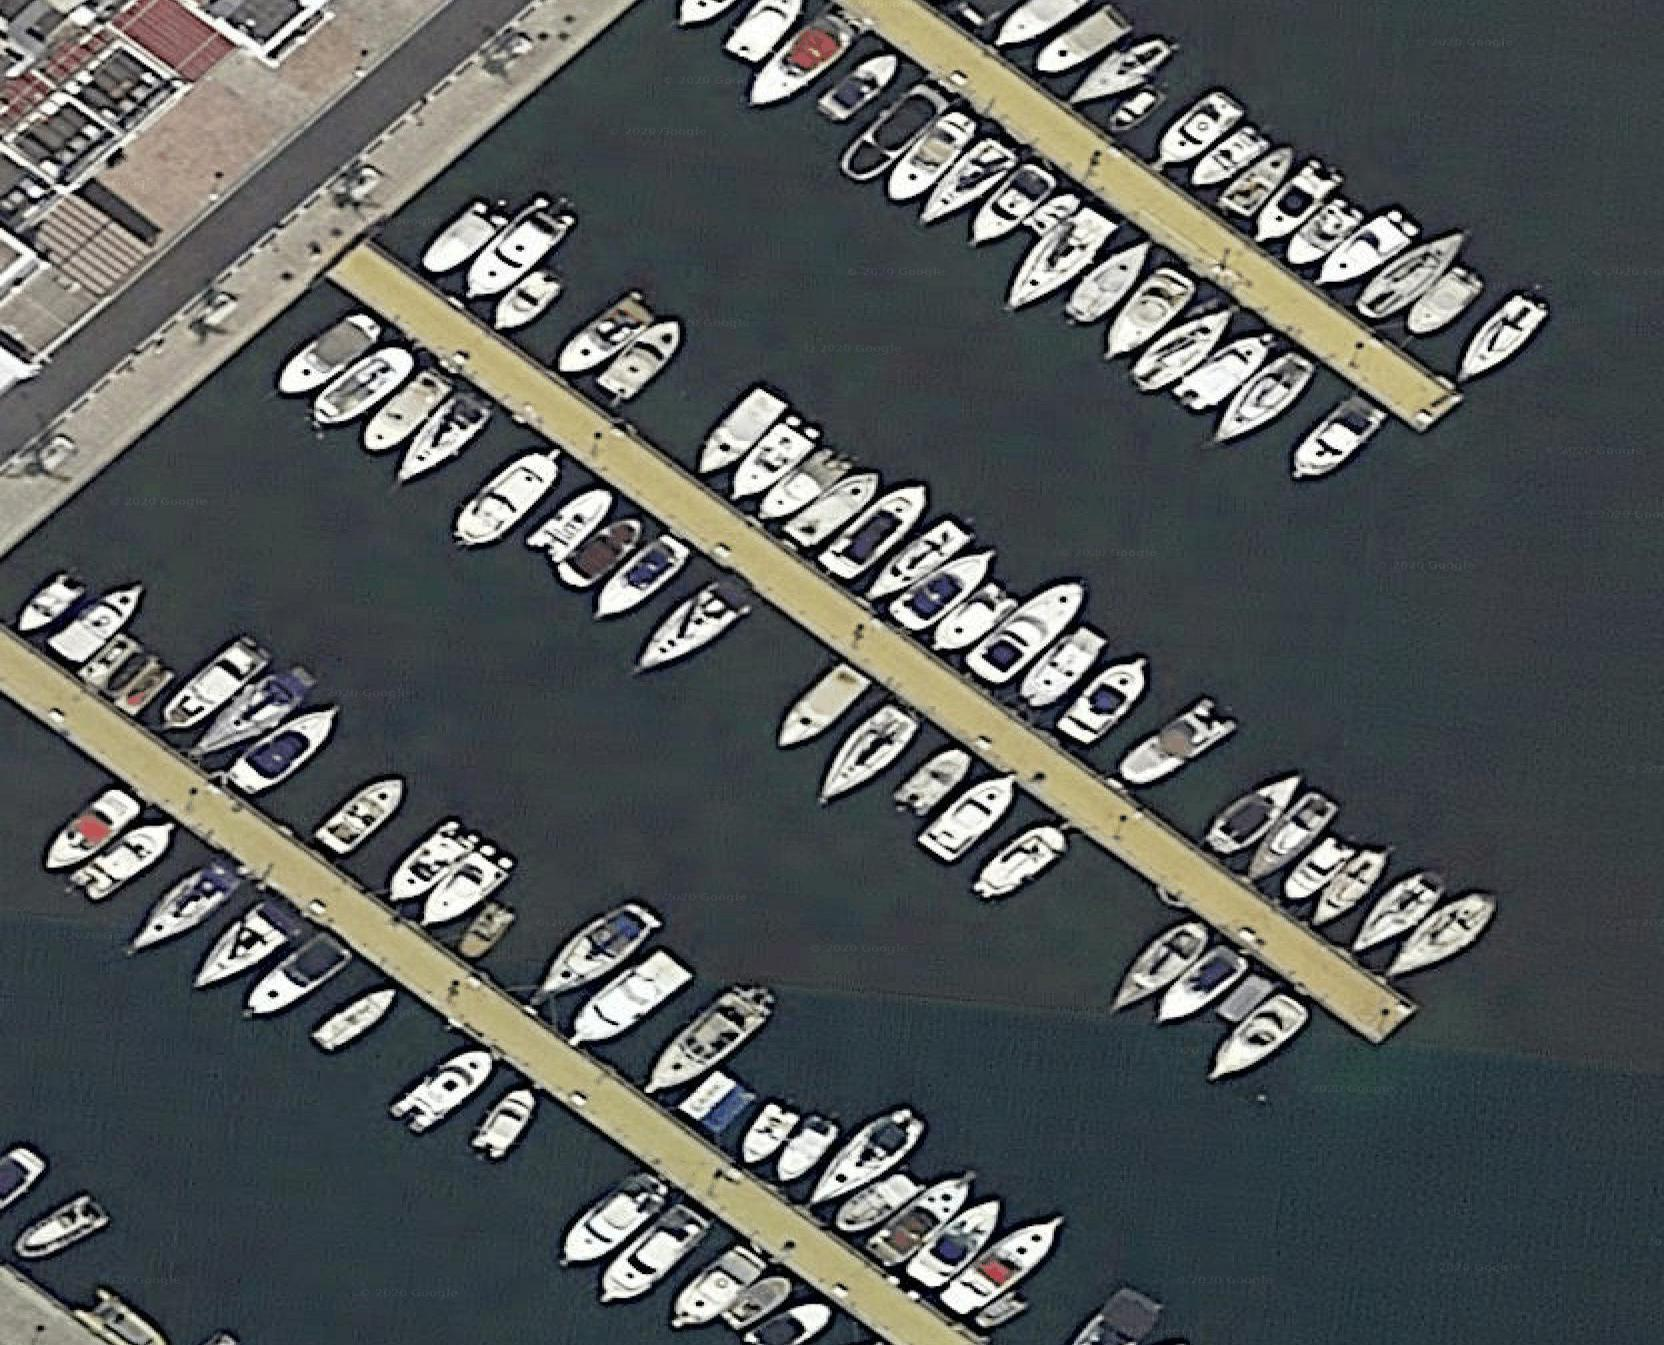harbor: (303, 231, 1436, 1049), (10, 563, 999, 1345), (551, 1, 1664, 423)
ship: (938, 1201, 1077, 1330), (525, 891, 665, 1018), (631, 983, 774, 1106), (558, 946, 697, 1062), (968, 565, 1093, 694), (804, 1108, 929, 1232), (621, 574, 753, 690), (117, 851, 248, 968), (997, 198, 1119, 320), (1200, 346, 1332, 458), (809, 693, 927, 817), (547, 1165, 669, 1280), (444, 441, 565, 556), (454, 196, 575, 310), (1379, 885, 1510, 990), (1346, 222, 1471, 332), (1104, 694, 1235, 799), (1200, 985, 1321, 1098), (738, 12, 861, 122), (587, 1198, 704, 1313), (818, 473, 936, 587), (222, 699, 342, 808), (911, 128, 1027, 236), (298, 336, 423, 436), (189, 660, 314, 760), (1108, 909, 1220, 1021), (381, 388, 497, 497), (916, 760, 1026, 873), (1128, 294, 1241, 402), (903, 1190, 1011, 1302), (1097, 262, 1210, 371), (877, 102, 984, 214), (1148, 933, 1261, 1040), (187, 893, 299, 1001), (860, 1162, 968, 1272), (266, 298, 379, 403), (1195, 763, 1309, 867), (1450, 284, 1558, 391), (388, 1040, 502, 1141), (236, 933, 357, 1025), (38, 782, 145, 885), (156, 635, 263, 738), (405, 839, 512, 941), (768, 657, 871, 762), (1346, 866, 1453, 966), (589, 312, 696, 412), (686, 382, 787, 486), (49, 571, 148, 677), (783, 456, 888, 554), (545, 287, 652, 383), (964, 818, 1075, 910), (1054, 653, 1155, 753), (310, 764, 412, 865), (1060, 226, 1156, 332), (960, 156, 1060, 257), (353, 365, 455, 463), (589, 531, 691, 627), (1172, 325, 1276, 420), (663, 1239, 763, 1337), (71, 817, 177, 909), (866, 511, 971, 603), (824, 1154, 933, 1243), (1015, 618, 1110, 716), (1065, 29, 1180, 110), (553, 502, 652, 596), (1247, 154, 1340, 251), (1285, 398, 1383, 490), (1250, 784, 1339, 882), (1152, 85, 1246, 178), (726, 413, 816, 509), (1322, 209, 1418, 298), (1305, 839, 1390, 937), (306, 977, 402, 1061), (519, 478, 612, 563), (1217, 137, 1300, 231), (813, 44, 903, 130), (1274, 823, 1359, 913), (1401, 258, 1491, 342), (1277, 189, 1366, 273), (1188, 117, 1273, 203), (486, 257, 573, 340), (414, 198, 499, 280), (12, 1195, 111, 1265), (722, 1, 809, 71), (772, 1108, 840, 1193), (735, 1099, 803, 1172)
